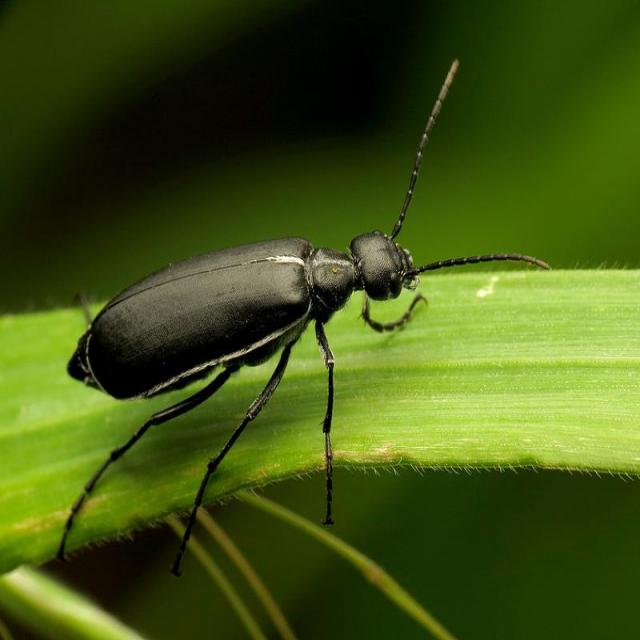BlisterBeetle-Adult-: (40, 153, 477, 500)
